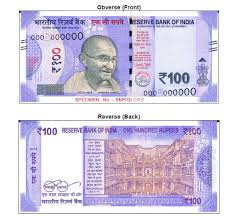hundred: (27, 27, 202, 88)
